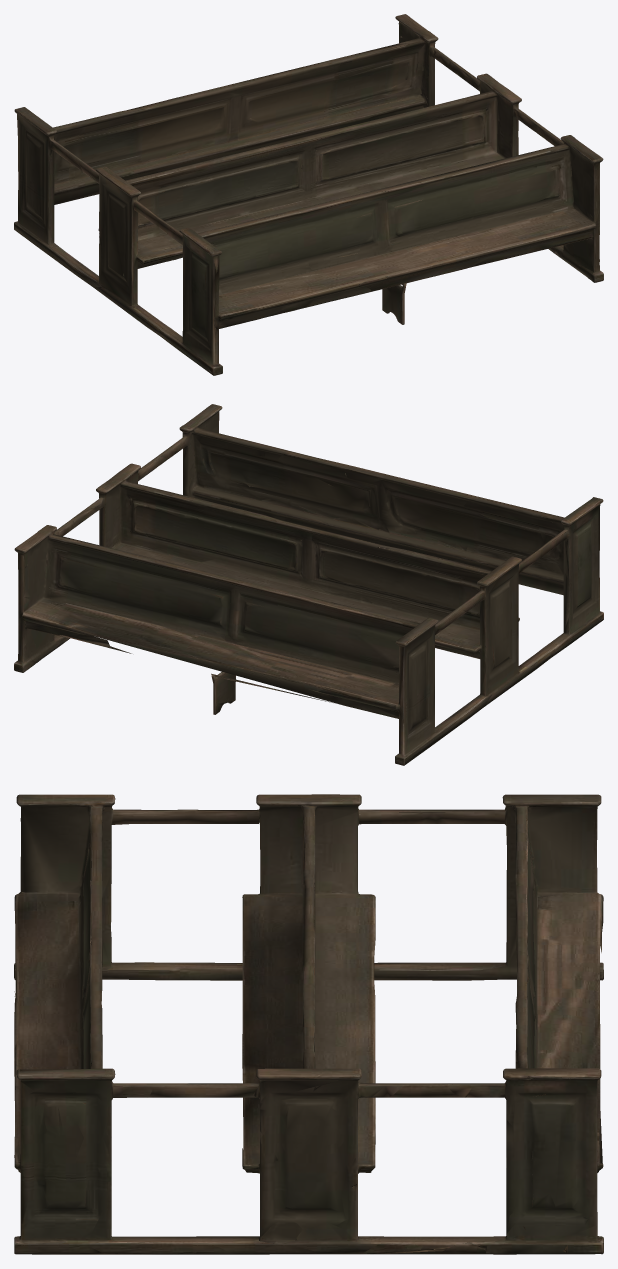
The model's file is church-pew-block.glb.
3 views of the same model, one above another, from view 1: azimuth 30°, elevation 25°; view 2: azimuth 150°, elevation 25°; view 3: azimuth 270°, elevation 25° (orthographic). The views are drawn at different scales.
Visible parts, largest first — view 1: Mesh_0; view 2: Mesh_0; view 3: Mesh_0.
Boxes of the visible parts, x1,y1,x2,y2 form: Mesh_0: (14, 14, 603, 375); Mesh_0: (14, 404, 603, 765); Mesh_0: (14, 794, 603, 1254).
Bounding box in the file's own units: 1.9 × 0.565 × 1.68.
Materials: 1 (1 with a texture image).
